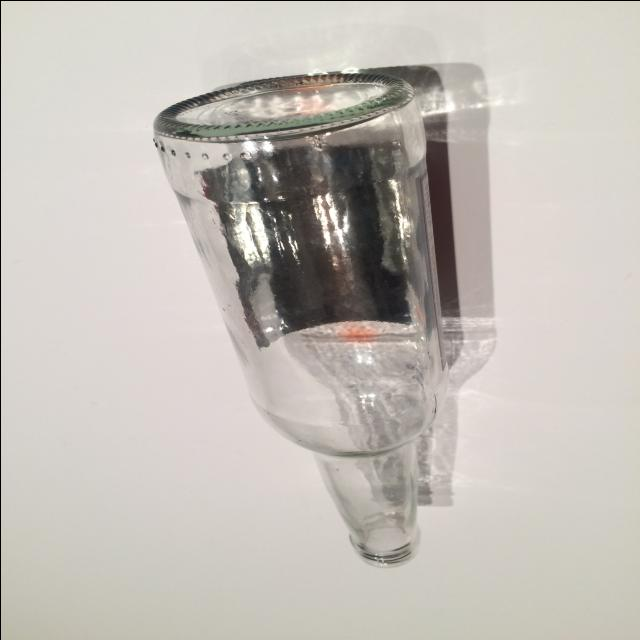glass: (153, 55, 503, 573)
